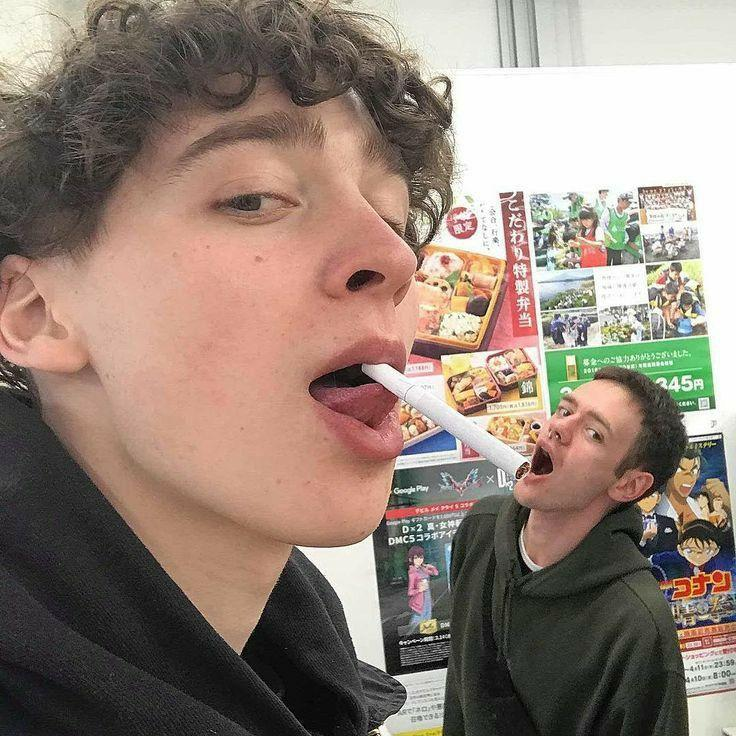cigarette: (361, 364, 530, 480)
